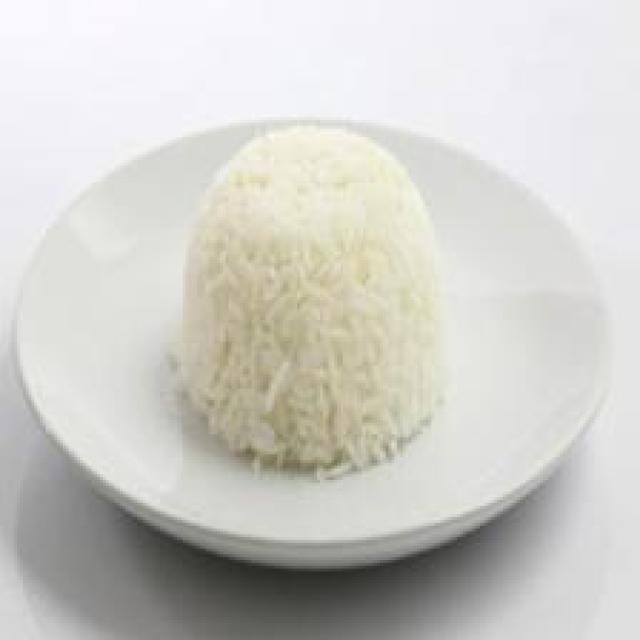Wet Waste: (166, 104, 461, 478)
